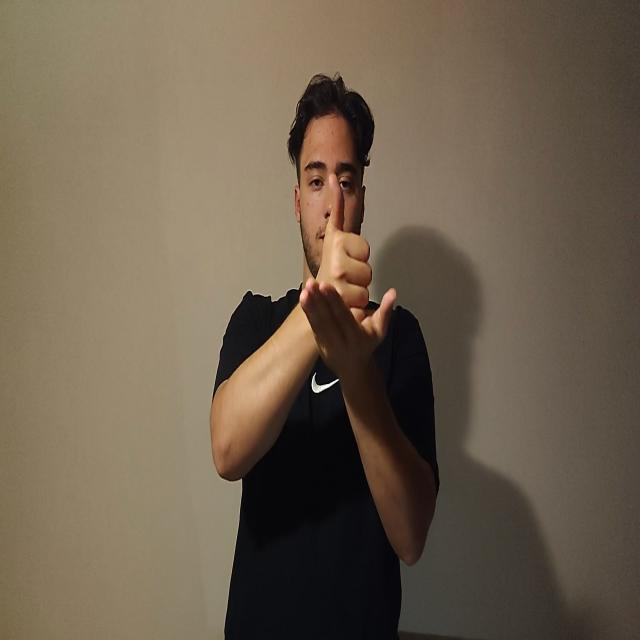help: (300, 180, 398, 370)
